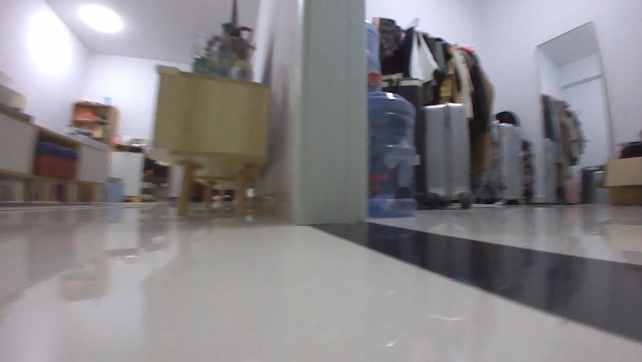tea_table: (0, 104, 111, 203)
